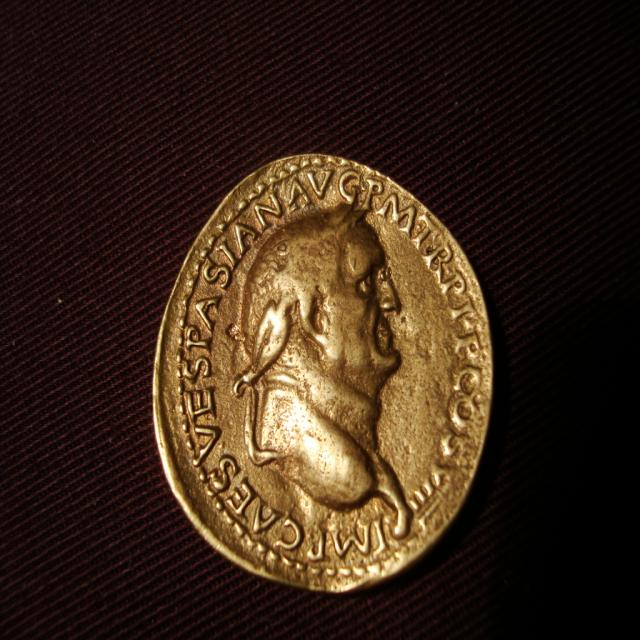Coin: (152, 153, 497, 598)
